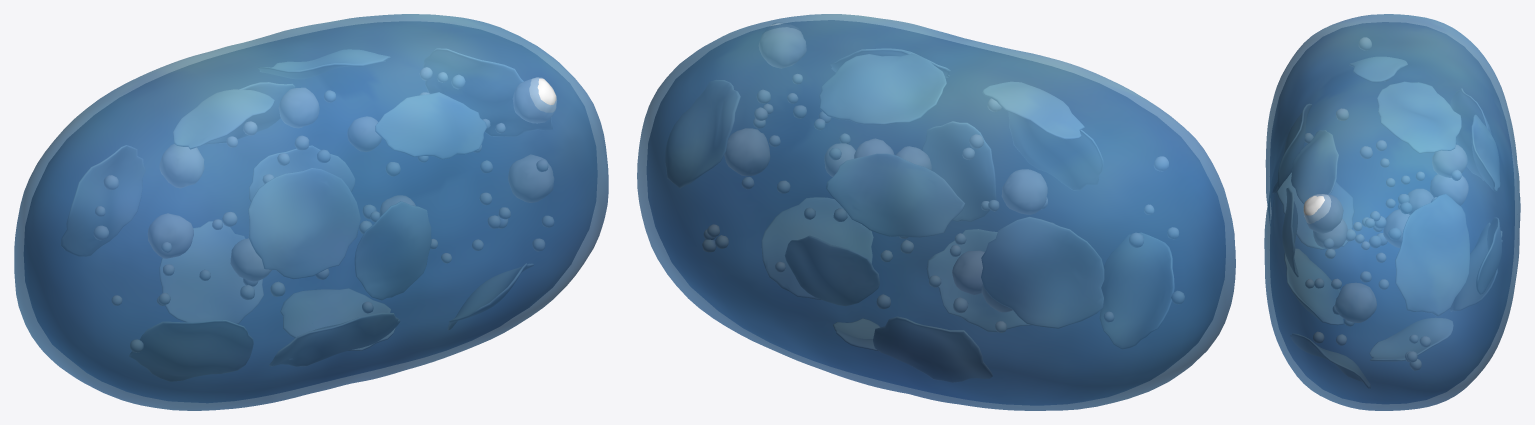
The model's file is vacuole.glb.
3 renders of one model, left to right at view 1: azimuth 30°, elevation 25°; view 2: azimuth 150°, elevation 25°; view 3: azimuth 270°, elevation 25°, orthographic. The views are drawn at different scales.
Parts seen in each view (by area): view 1: vacuole-tonoplast, vacuole-solutes; view 2: vacuole-tonoplast, vacuole-solutes; view 3: vacuole-tonoplast, vacuole-solutes.
Part boxes in pixels (x1,y1,x2,y2): vacuole-tonoplast: (14, 14, 608, 410); vacuole-solutes: (61, 49, 556, 381); vacuole-tonoplast: (637, 14, 1235, 410); vacuole-solutes: (666, 23, 1184, 381); vacuole-tonoplast: (1264, 14, 1520, 410); vacuole-solutes: (1273, 38, 1501, 387).
Size of what is drawn, in the model's own units: 5.2 by 2.9 by 2.36.
